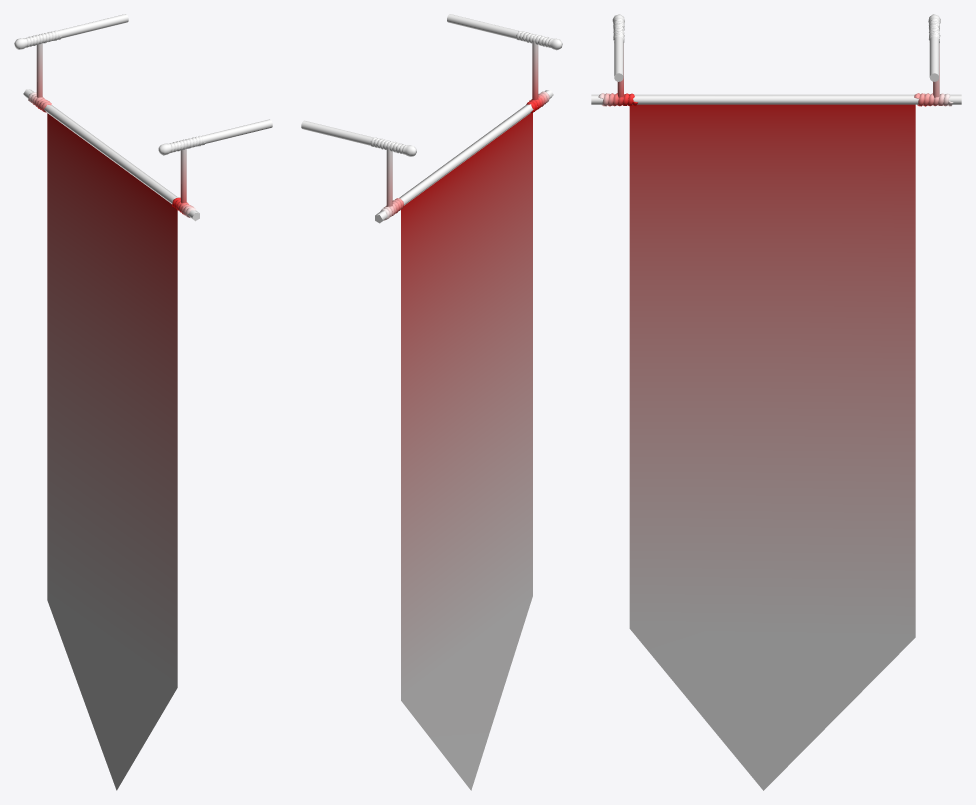
The model's file is SM_VikingFlag_01b.fbx.
3 views of the same model, side by side, from view 1: azimuth 30°, elevation 25°; view 2: azimuth 150°, elevation 25°; view 3: azimuth 270°, elevation 25° (orthographic). The views are drawn at different scales.
Visible parts, largest first — view 1: SM_VikingFlag_01b_LOD0; view 2: SM_VikingFlag_01b_LOD0; view 3: SM_VikingFlag_01b_LOD0.
Boxes of the visible parts, x1,y1,x2,y2 form: SM_VikingFlag_01b_LOD0: (14, 14, 272, 790); SM_VikingFlag_01b_LOD0: (301, 14, 562, 790); SM_VikingFlag_01b_LOD0: (591, 14, 961, 790).
Bounding box in the file's own units: 25.17 × 66.15 × 151.
